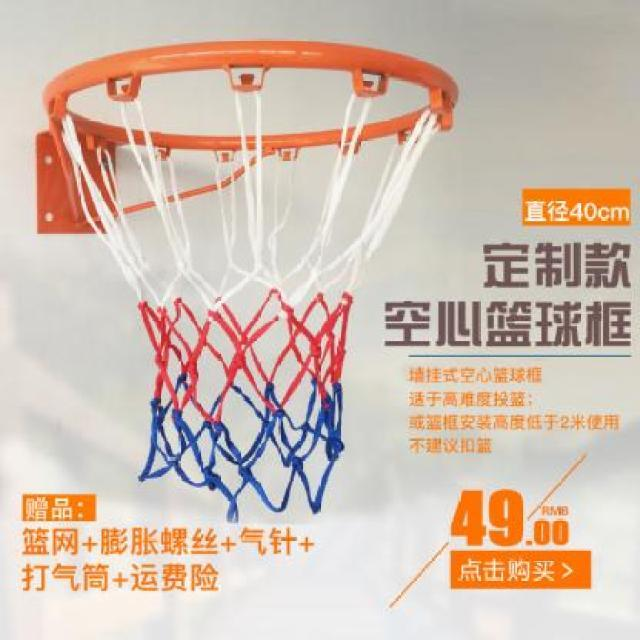rim: (47, 39, 460, 513)
